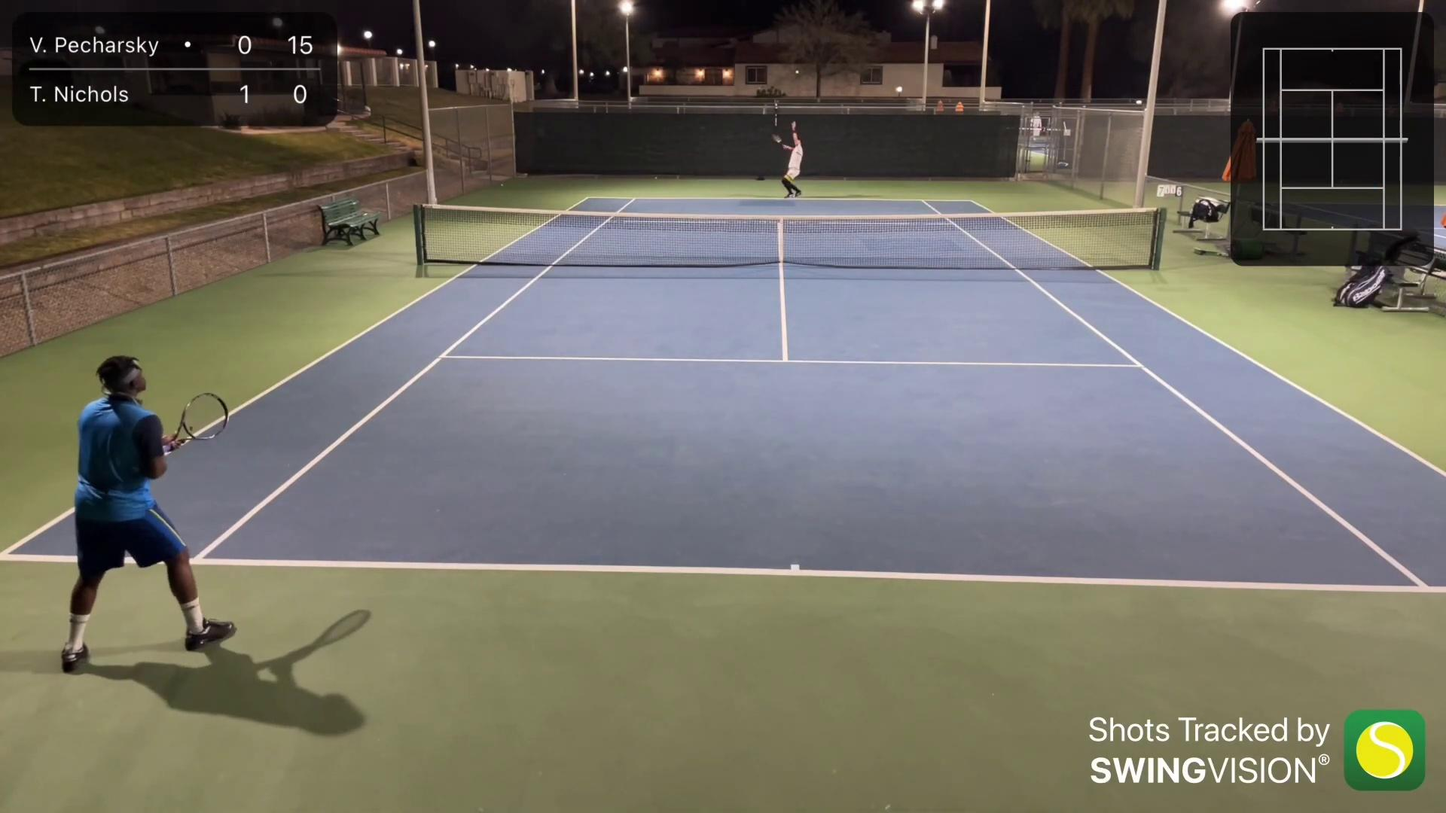ball: (497, 182, 508, 187), (652, 176, 660, 180), (795, 69, 799, 75)
